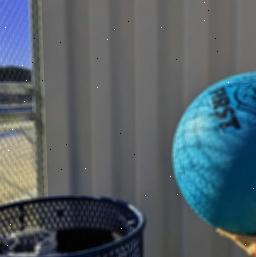algae: (170, 66, 256, 235)
